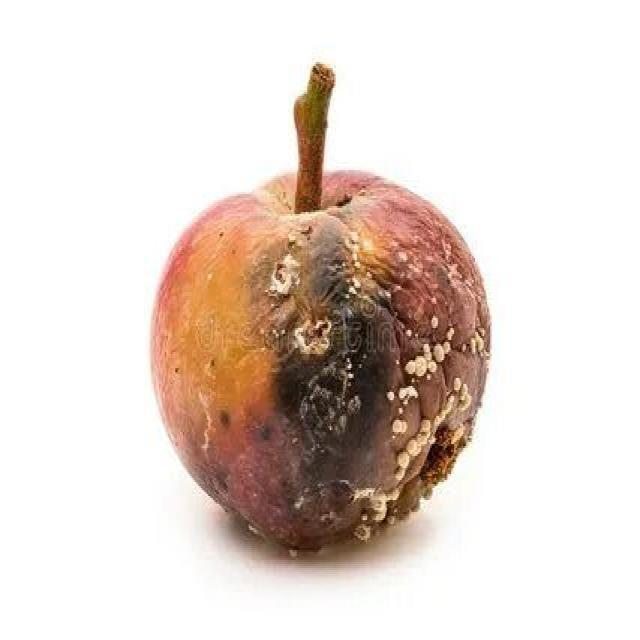Apple: (147, 162, 495, 560)
